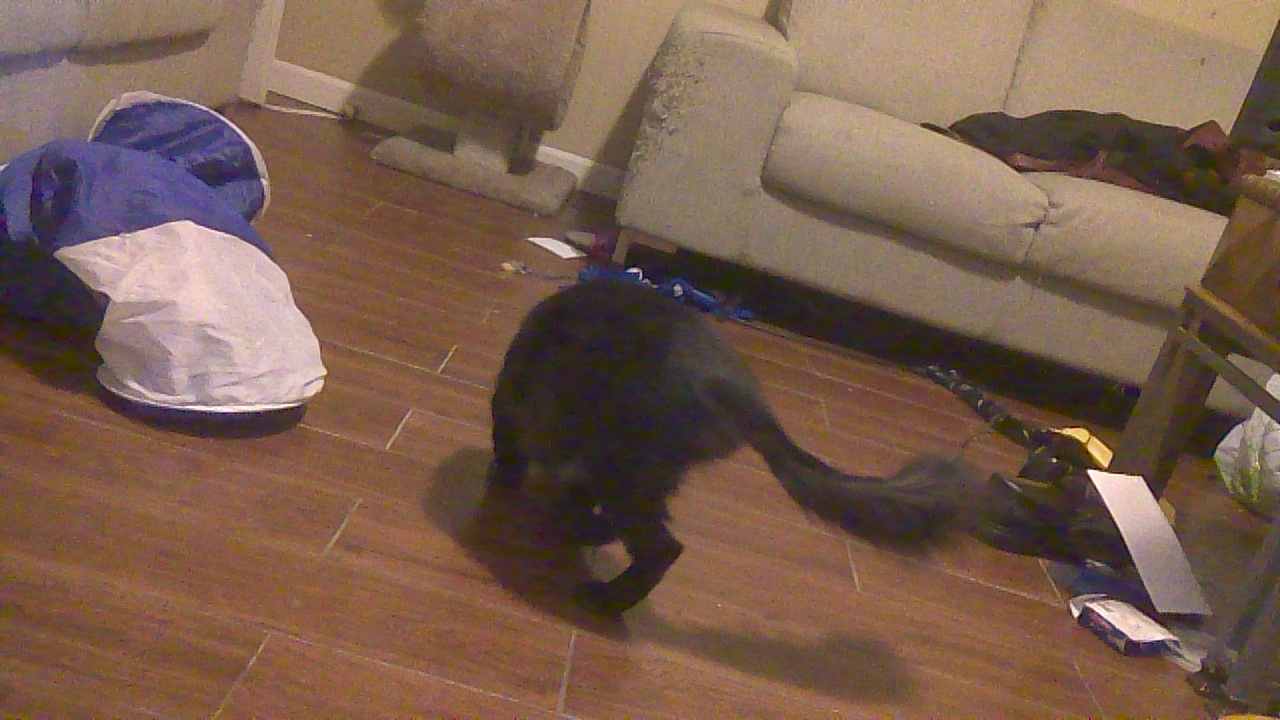cat: (486, 275, 980, 616)
